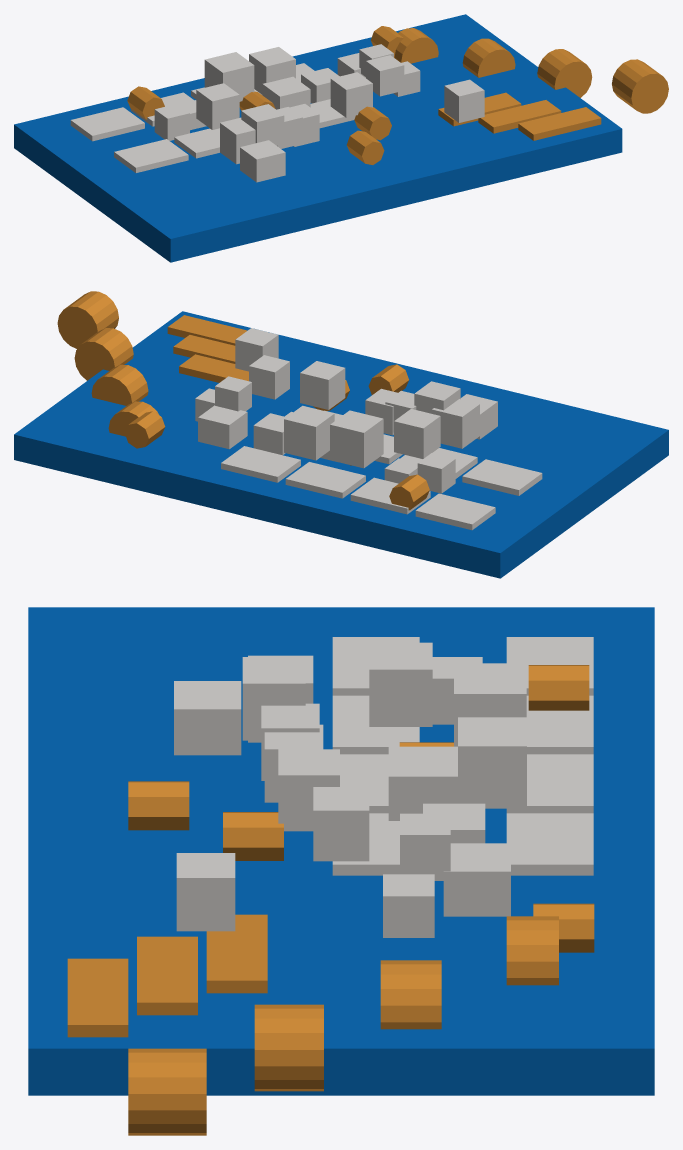
Rendered from marshmallow_graham_pile.glb.
The picture shows the model from 3 angles, top to bottom: view 1: azimuth 30°, elevation 25°; view 2: azimuth 150°, elevation 25°; view 3: azimuth 270°, elevation 25°; orthographic projection. The views are drawn at different scales.
Visible parts, largest first — view 1: world; view 2: world; view 3: world.
Part boxes in pixels (left/top/right/bottom): world: left=14, top=14, right=668, bottom=262; world: left=14, top=291, right=668, bottom=578; world: left=28, top=607, right=654, bottom=1135.
Bounding box in the file's own units: 1.39 × 0.1858 × 0.72.
